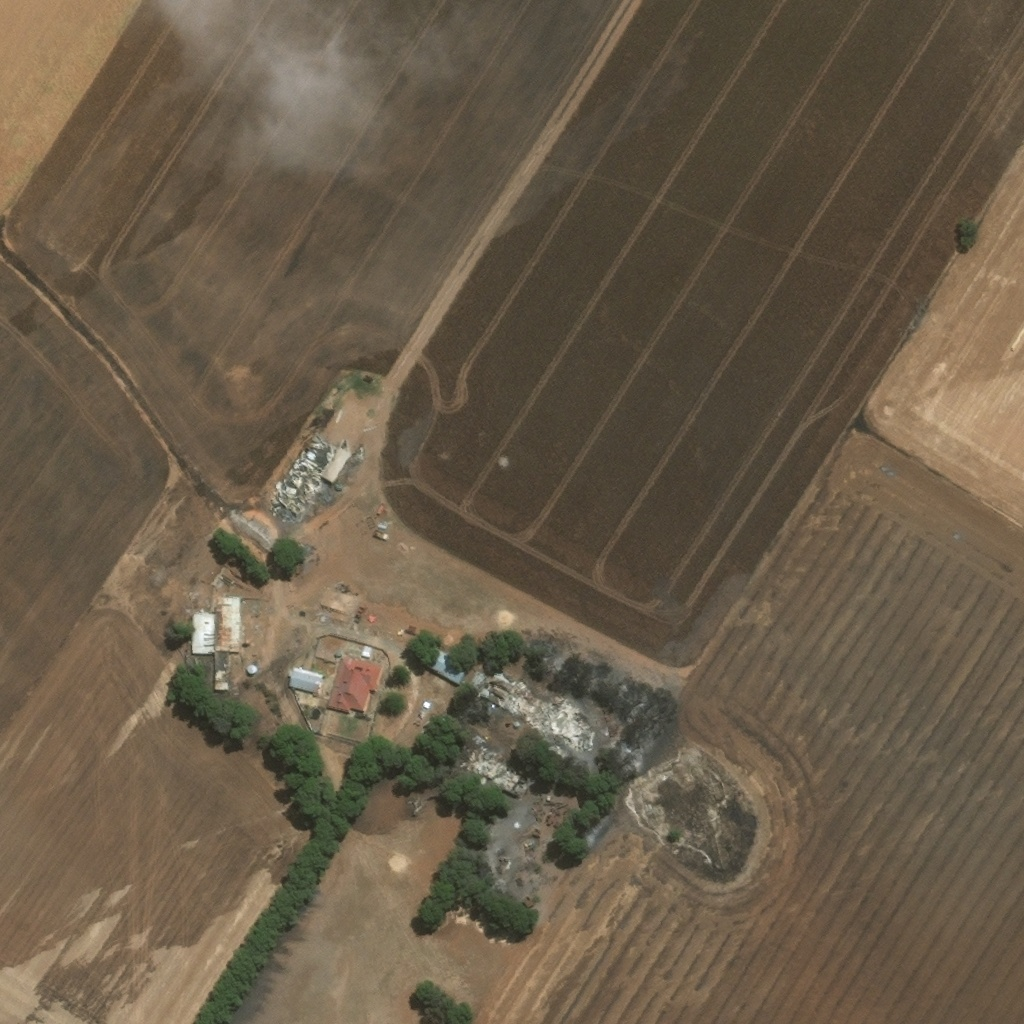0 no-damage: (326, 653, 384, 712), (414, 641, 468, 681), (413, 658, 458, 685), (287, 664, 323, 693), (360, 641, 372, 656), (245, 661, 256, 674)
1 minor-damage: (189, 593, 240, 654), (214, 652, 229, 689)
2 major-damage: (334, 482, 341, 489)
3 destroyed: (271, 427, 353, 516), (465, 665, 550, 730), (540, 690, 594, 745), (468, 746, 529, 792)
